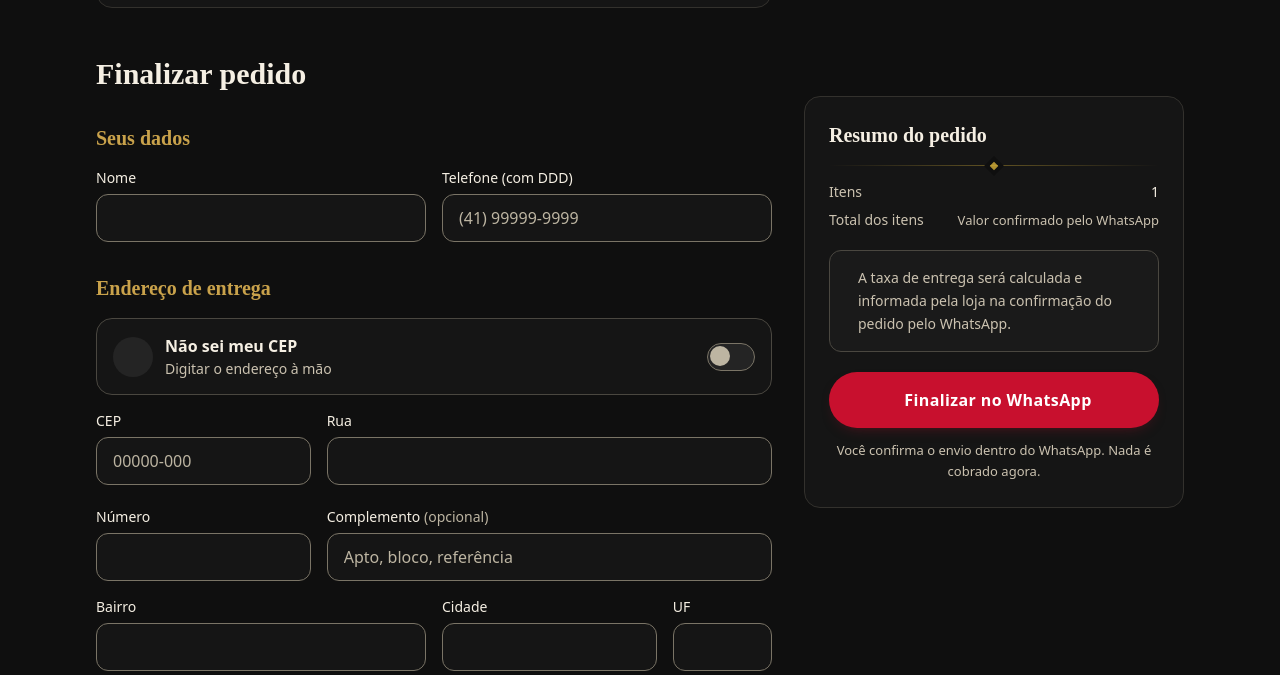
Test: Checkout: endereço manual ("Não sei meu CEP") › a dica do modo manual explica que o CEP libera a conferência da entrega grátis
(page scrolled)
Click the switch with id "field-manualAddress".
click(133, 357)  # box [96,318,772,395]
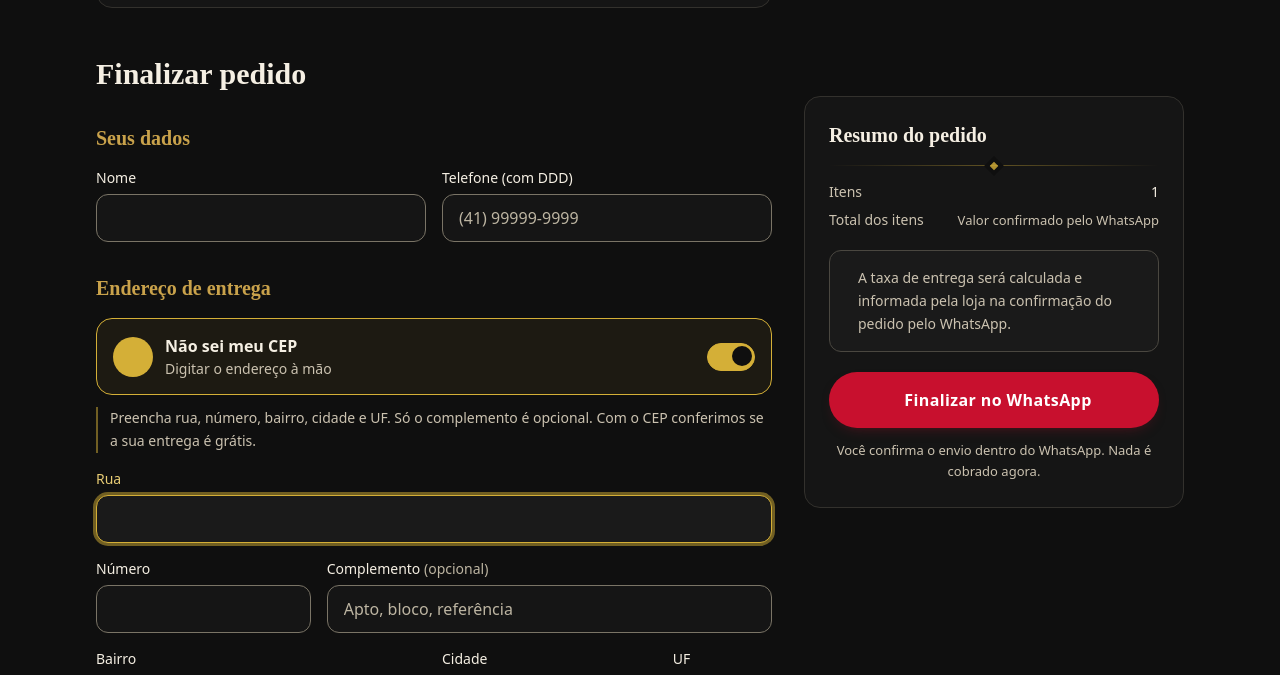
Check: the text with id "manual-address-hint" shows "Com o CEP conferimos se a sua entrega é grátis", box [110,408,764,450]
